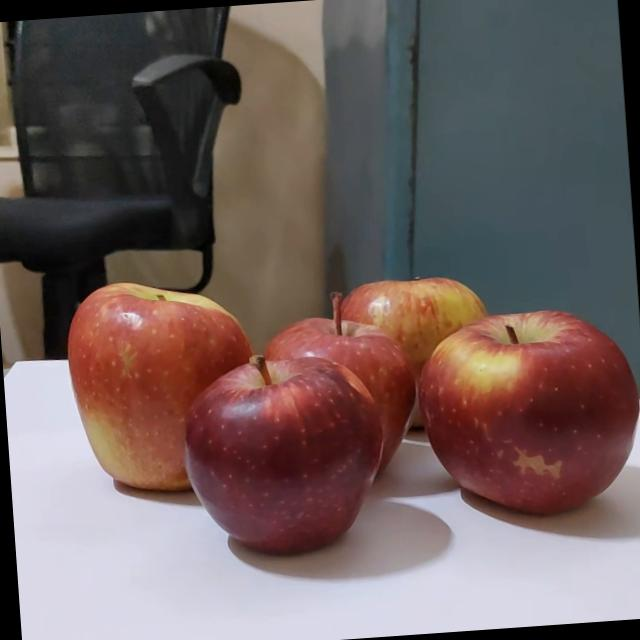apple: (409, 302, 640, 529), (60, 258, 271, 506), (170, 342, 396, 566), (252, 283, 426, 492), (333, 266, 504, 437)
